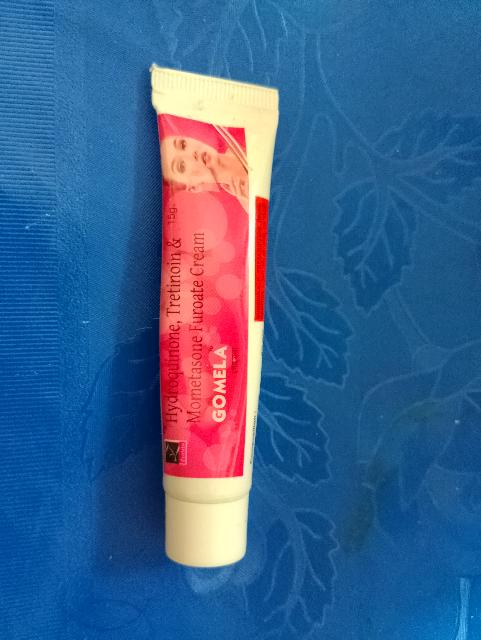hardplastic: (115, 40, 319, 591)
